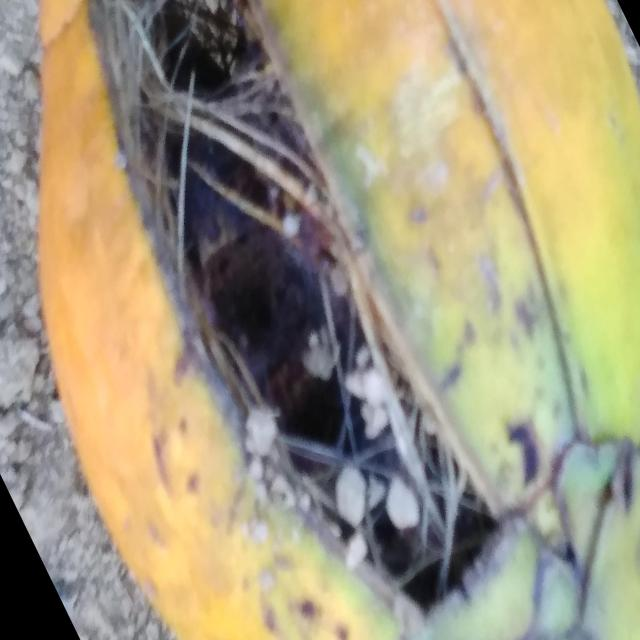damaged: (39, 0, 640, 640)
